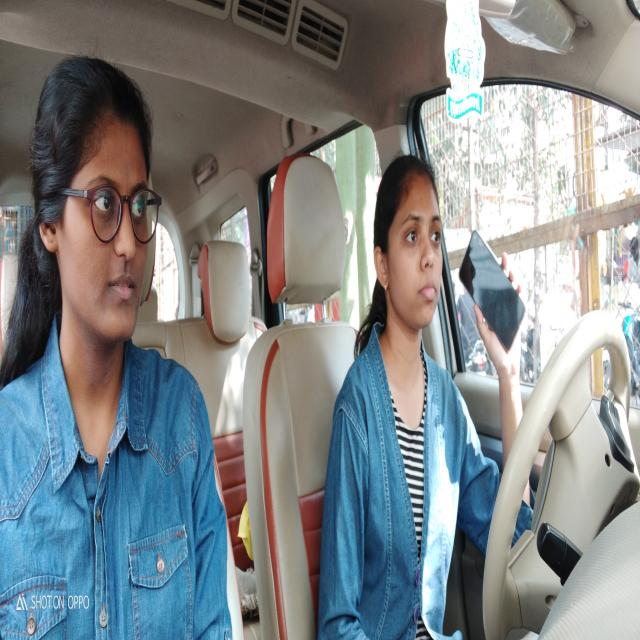mobile: (457, 228, 527, 357)
person: (27, 52, 162, 348), (372, 144, 446, 342)
